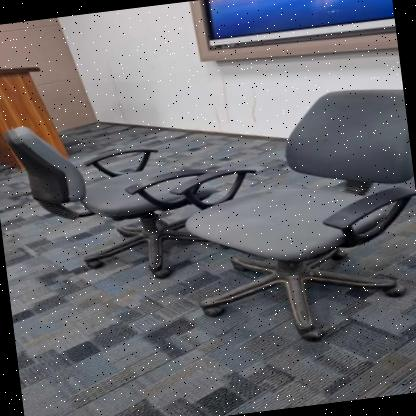chair: (181, 71, 416, 352), (0, 92, 231, 294)
